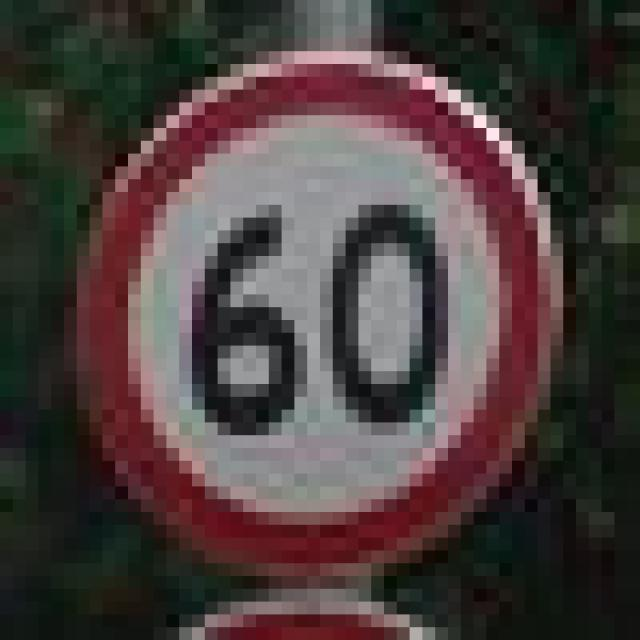speed_limit_40: (52, 38, 550, 550)
